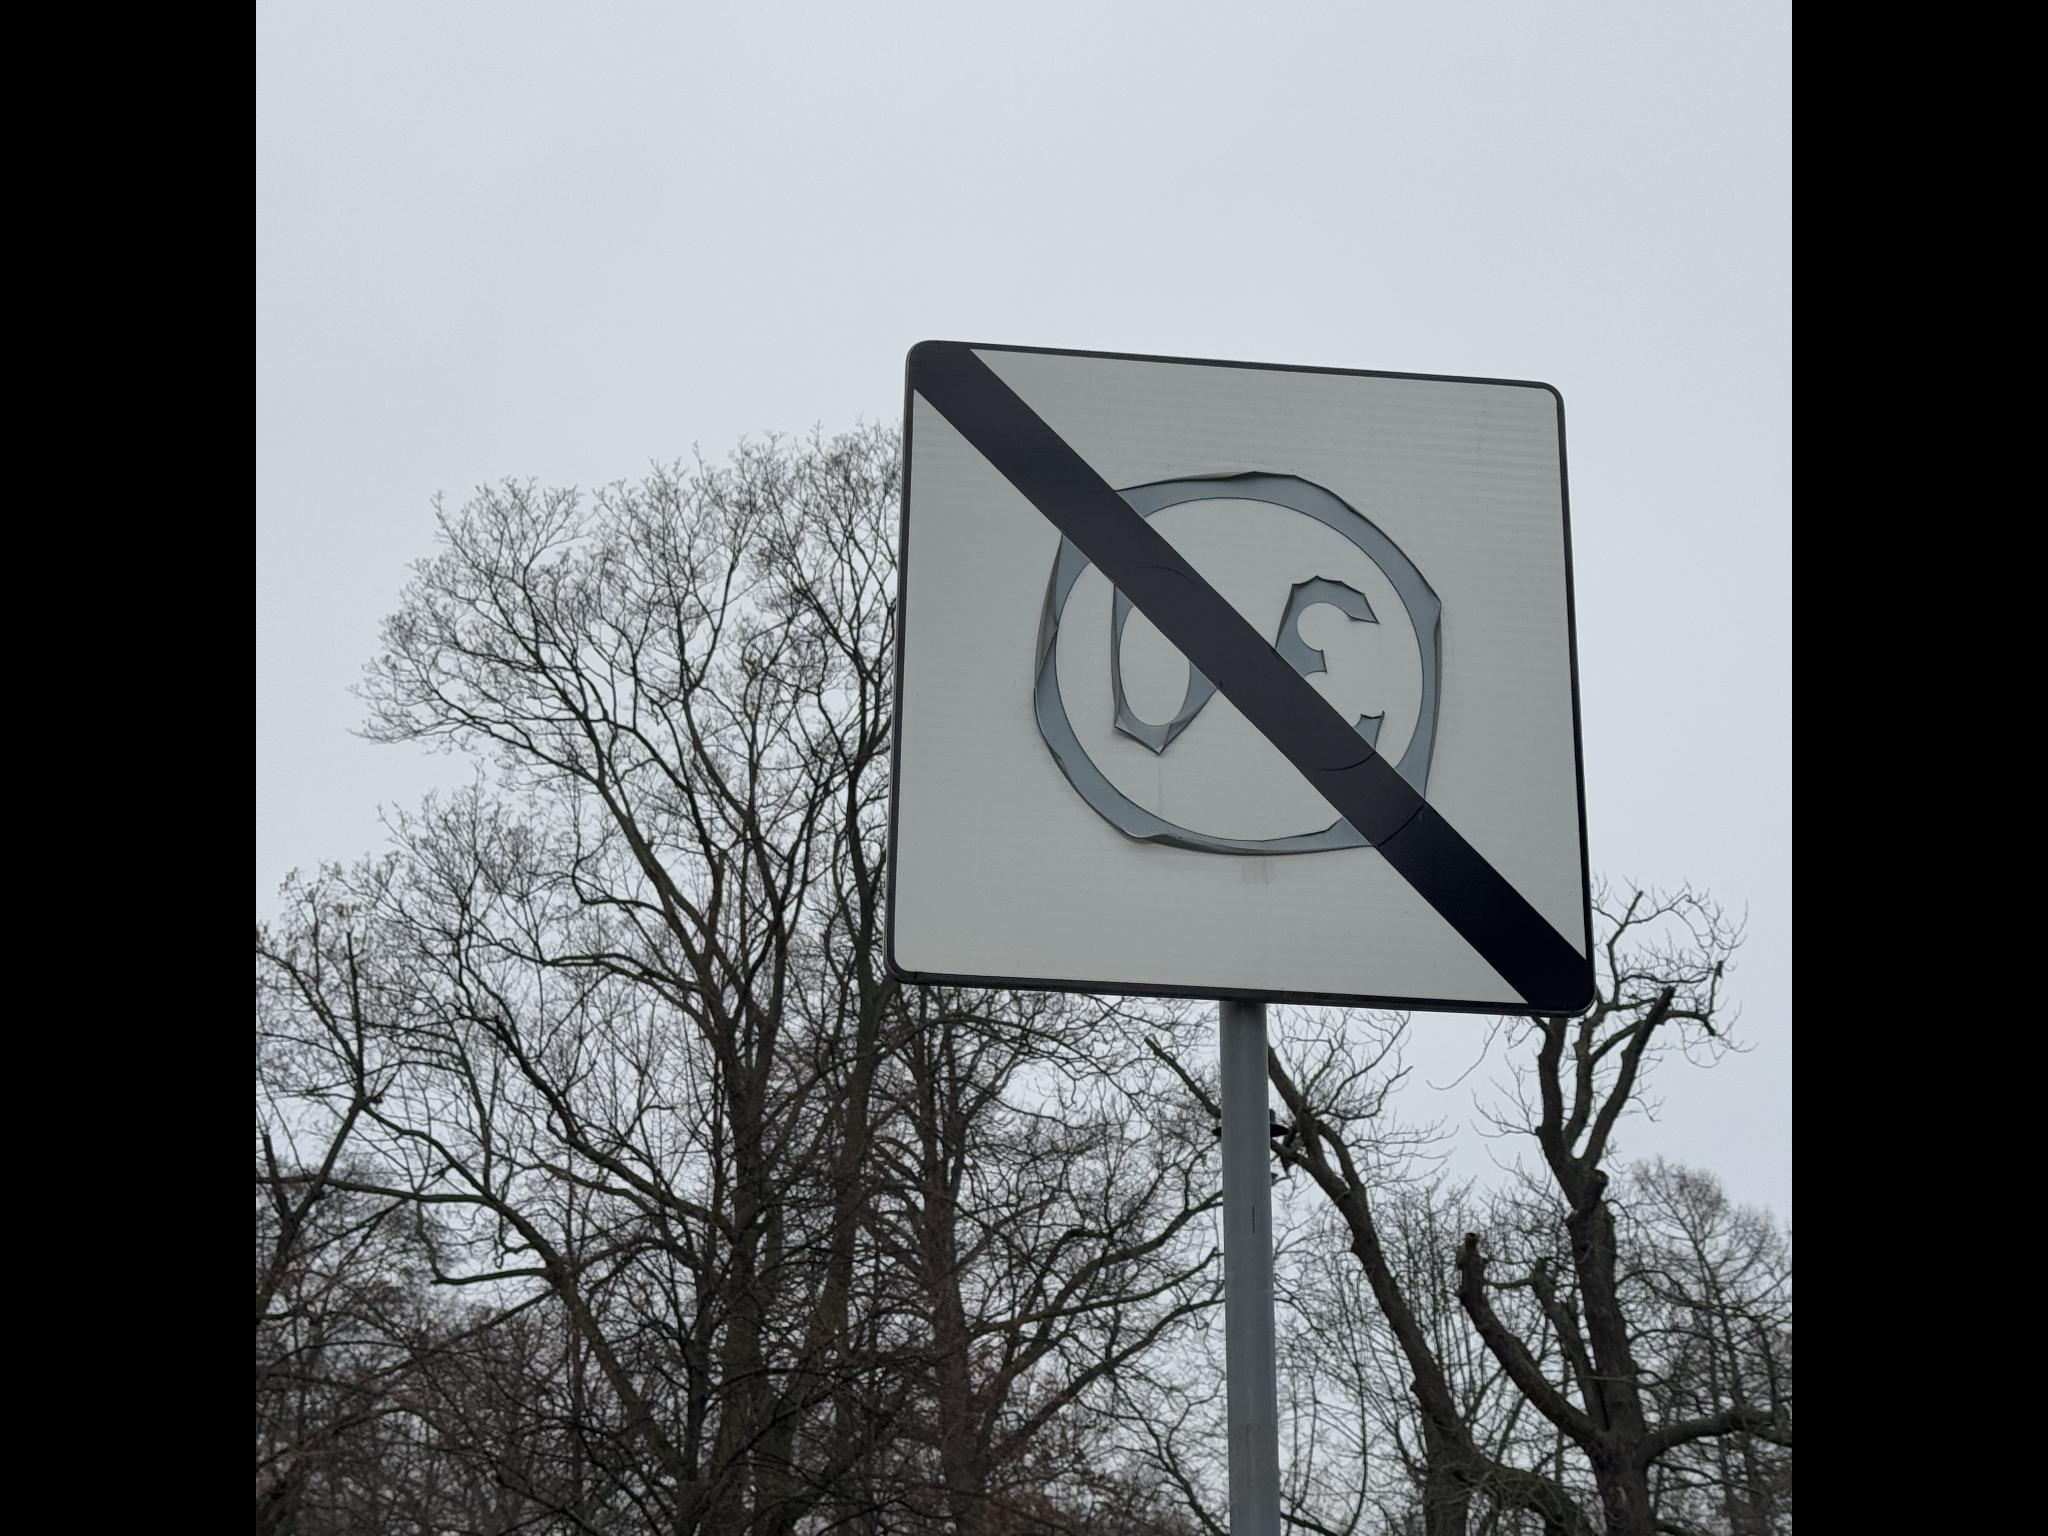prohibitory: (964, 79, 1384, 510)
